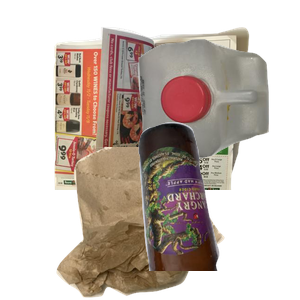glass: (136, 120, 300, 300)
paper: (51, 24, 291, 204)
plastic: (136, 37, 300, 188)
trash: (54, 147, 271, 300)
